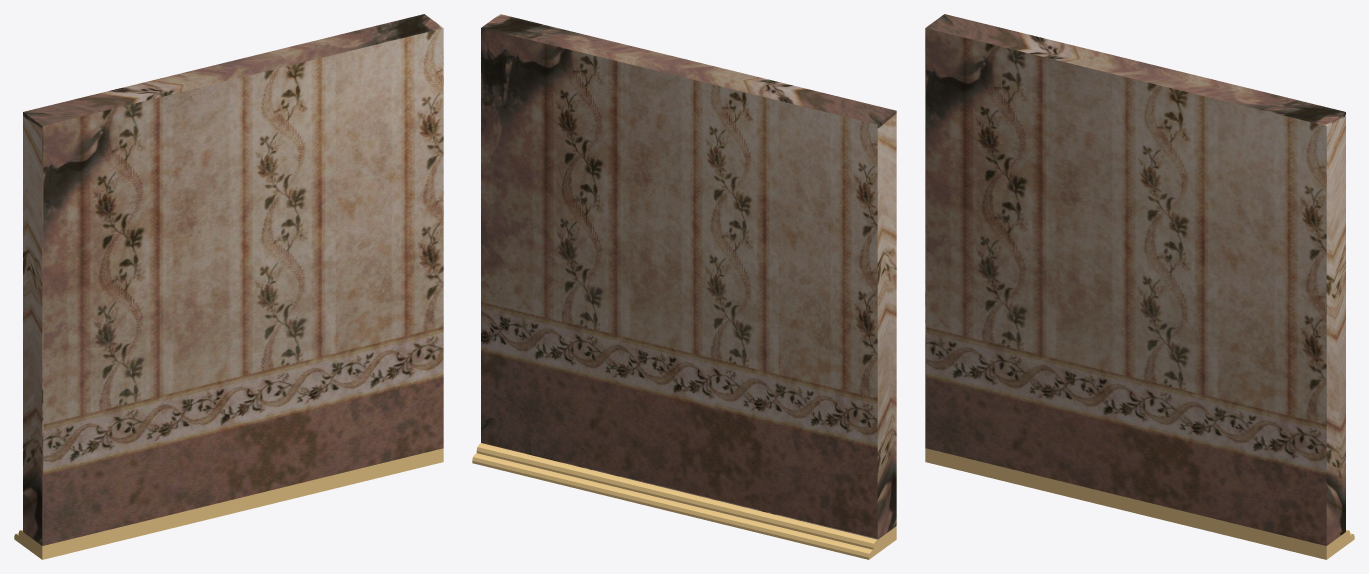
The model's file is BaseWalls.fbx.
The picture shows the model from 3 angles, left to right: view 1: azimuth 30°, elevation 25°; view 2: azimuth 150°, elevation 25°; view 3: azimuth 330°, elevation 25°; orthographic projection.
Visible parts, largest first — view 1: Wall, WallTrim; view 2: Wall, WallTrim; view 3: Wall, WallTrim.
Boxes of the visible parts, x1,y1,x2,y2 form: Wall: [23, 14, 443, 545]; WallTrim: [14, 448, 443, 559]; Wall: [481, 14, 896, 539]; WallTrim: [472, 443, 896, 559]; Wall: [925, 14, 1345, 545]; WallTrim: [925, 448, 1354, 559].
Size of the model in its own units: 600 by 620 by 72.96.
